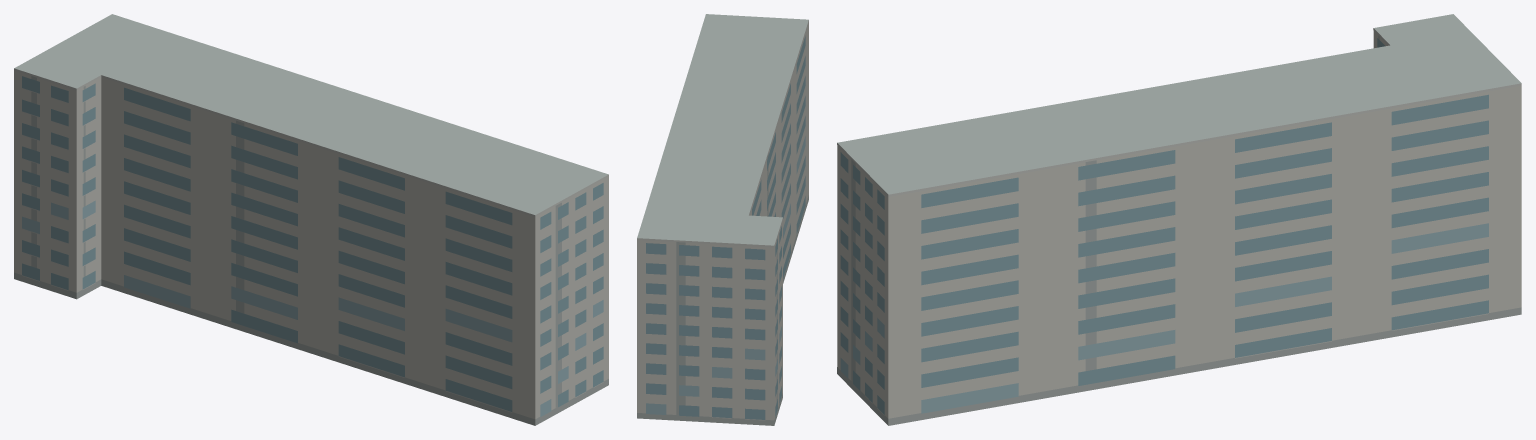
The model's file is residential-5b370a32-b2ea-4796-9191-168ab43c220a.glb.
3 renders of one model, left to right at view 1: azimuth 30°, elevation 25°; view 2: azimuth 150°, elevation 25°; view 3: azimuth 270°, elevation 25°, orthographic. The views are drawn at different scales.
Visible parts, largest first — view 1: residential-5b370a32-b2ea-4796-9191-168ab43c220a.tmp; view 2: residential-5b370a32-b2ea-4796-9191-168ab43c220a.tmp; view 3: residential-5b370a32-b2ea-4796-9191-168ab43c220a.tmp.
Part boxes in pixels (bbox=[...]): residential-5b370a32-b2ea-4796-9191-168ab43c220a.tmp: bbox=[14, 14, 608, 425]; residential-5b370a32-b2ea-4796-9191-168ab43c220a.tmp: bbox=[637, 14, 808, 425]; residential-5b370a32-b2ea-4796-9191-168ab43c220a.tmp: bbox=[837, 14, 1521, 425].
Bounding box in the file's own units: 43.57 × 26 × 69.76.
